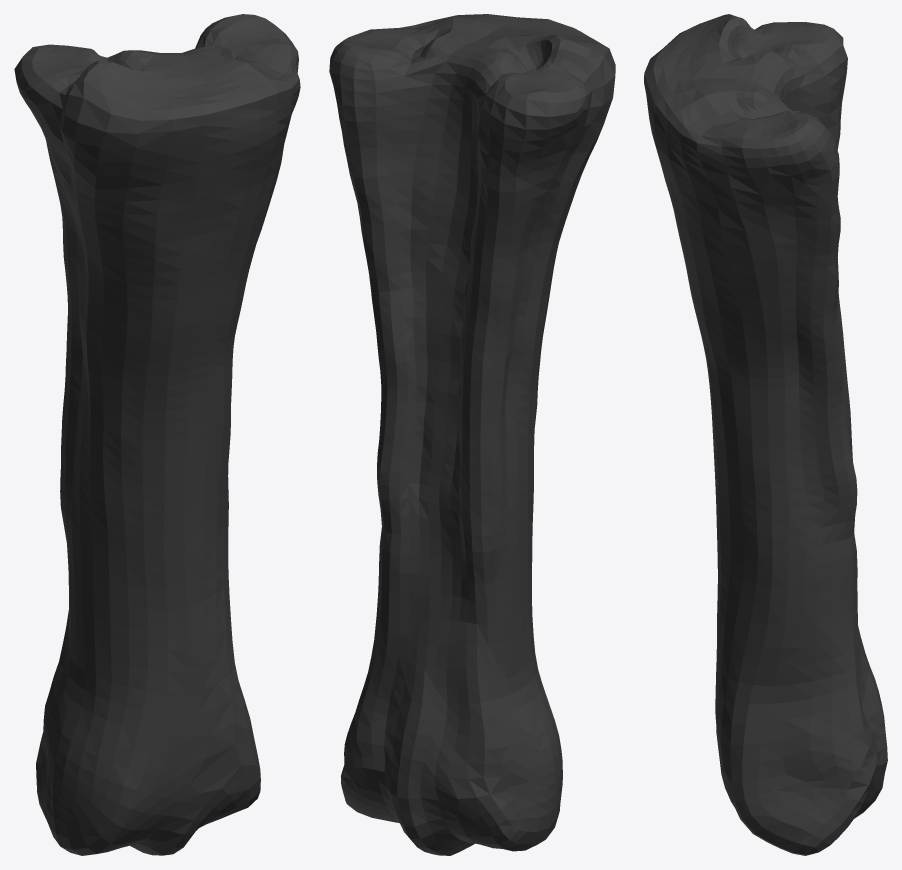
The model's file is Metacarpal_R.glb.
3 renders of one model, left to right at view 1: azimuth 30°, elevation 25°; view 2: azimuth 150°, elevation 25°; view 3: azimuth 270°, elevation 25°, orthographic. The views are drawn at different scales.
Visible parts, largest first — view 1: Metacarpal_R; view 2: Metacarpal_R; view 3: Metacarpal_R.
Part boxes in pixels (<box>): Metacarpal_R: <box>14,14,300,855</box>; Metacarpal_R: <box>329,14,615,855</box>; Metacarpal_R: <box>644,14,887,855</box>.
Bounding box in the file's own units: 0.1086 × 0.338 × 0.0954.
1 material, 1 textured.
